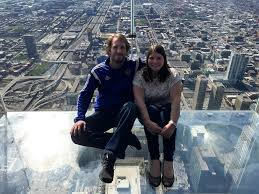Bad: (70, 34, 183, 185)
